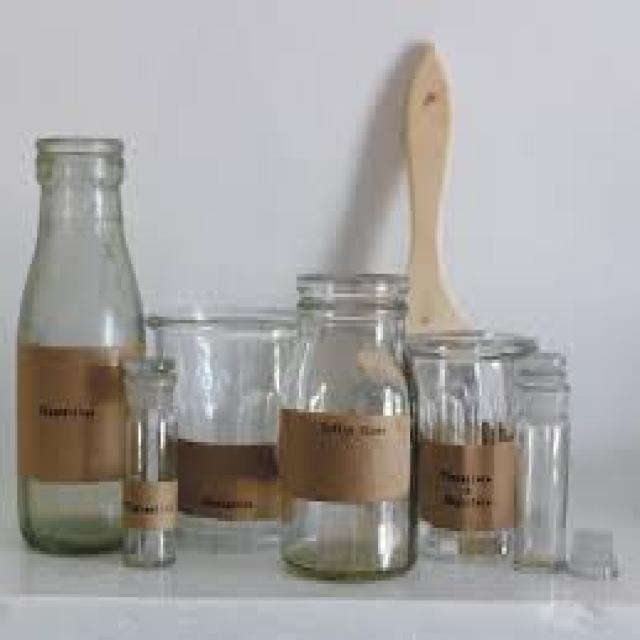glass: (12, 132, 141, 551), (277, 274, 410, 574), (146, 310, 296, 551), (400, 336, 534, 561), (116, 353, 176, 564), (509, 350, 563, 564), (571, 525, 613, 578)
